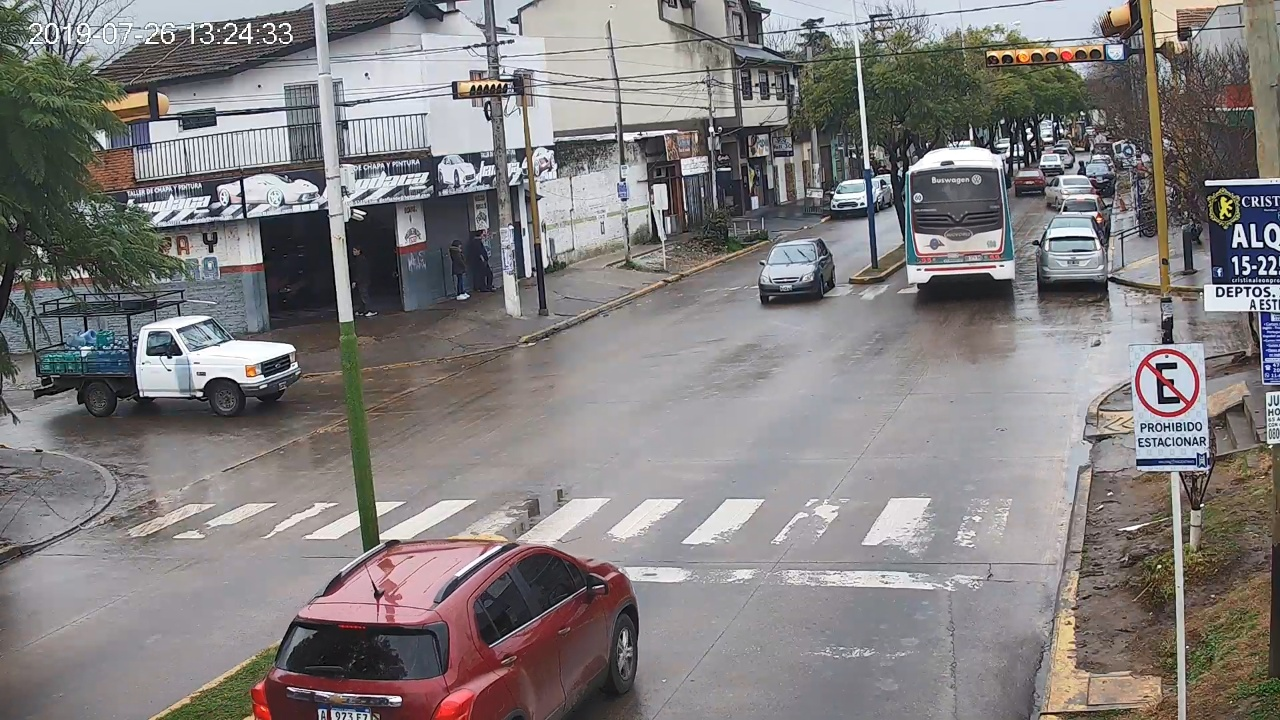bus: (903, 148, 1015, 289)
car: (251, 541, 640, 720)
front car: (758, 238, 837, 302)
traffic light: (1015, 47, 1102, 64)
